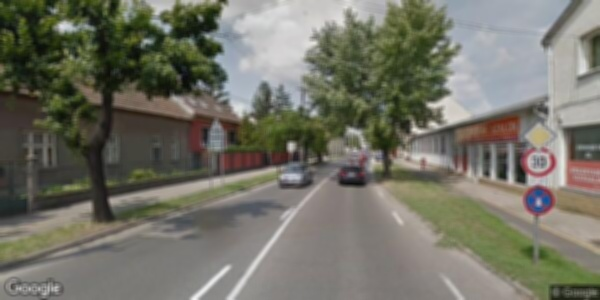b_speed_limit: (520, 146, 556, 177)
e_no_stop_park: (521, 185, 556, 215)
